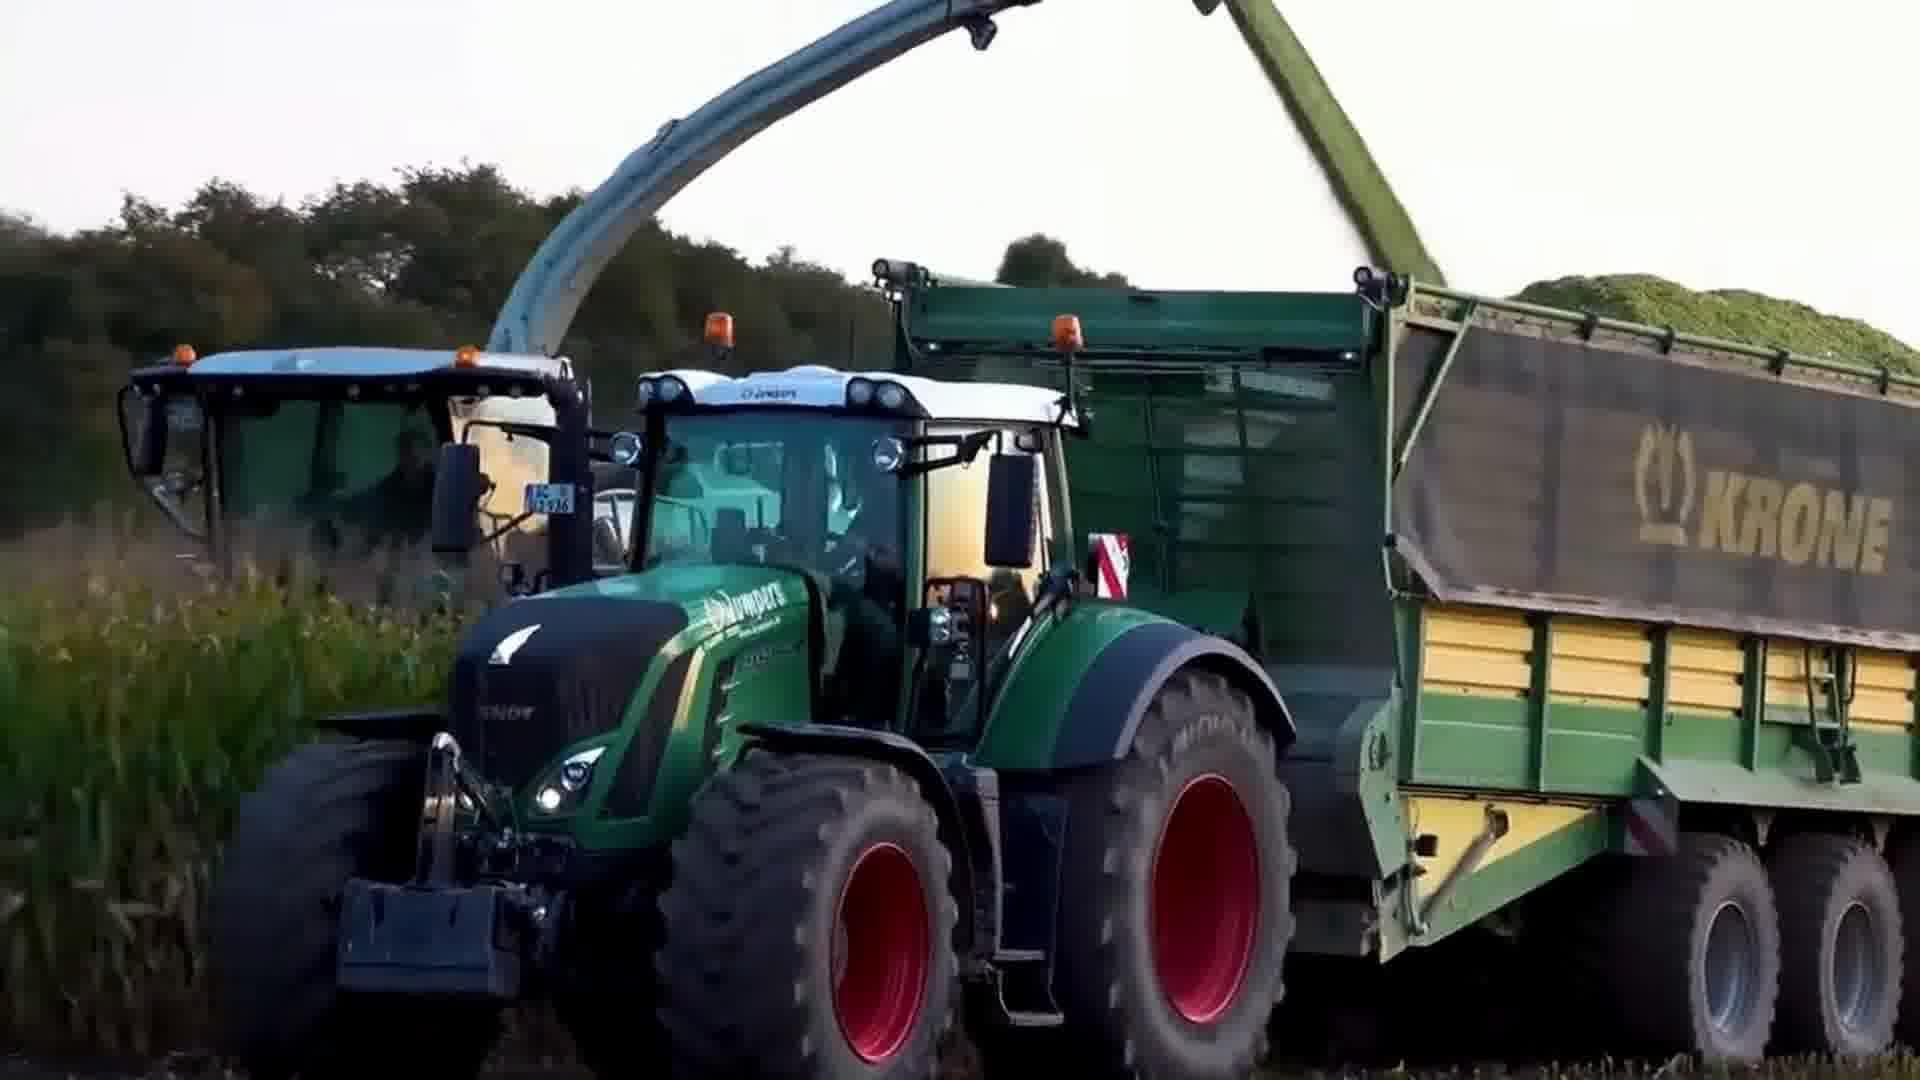combine harvester: (108, 0, 1075, 617)
tractor: (193, 302, 1303, 1080)
trailer: (868, 243, 1920, 1080)
